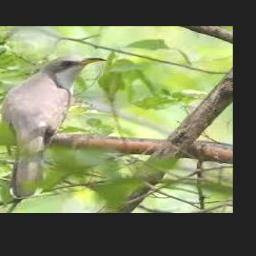Cuckoo: (2, 55, 106, 197)
